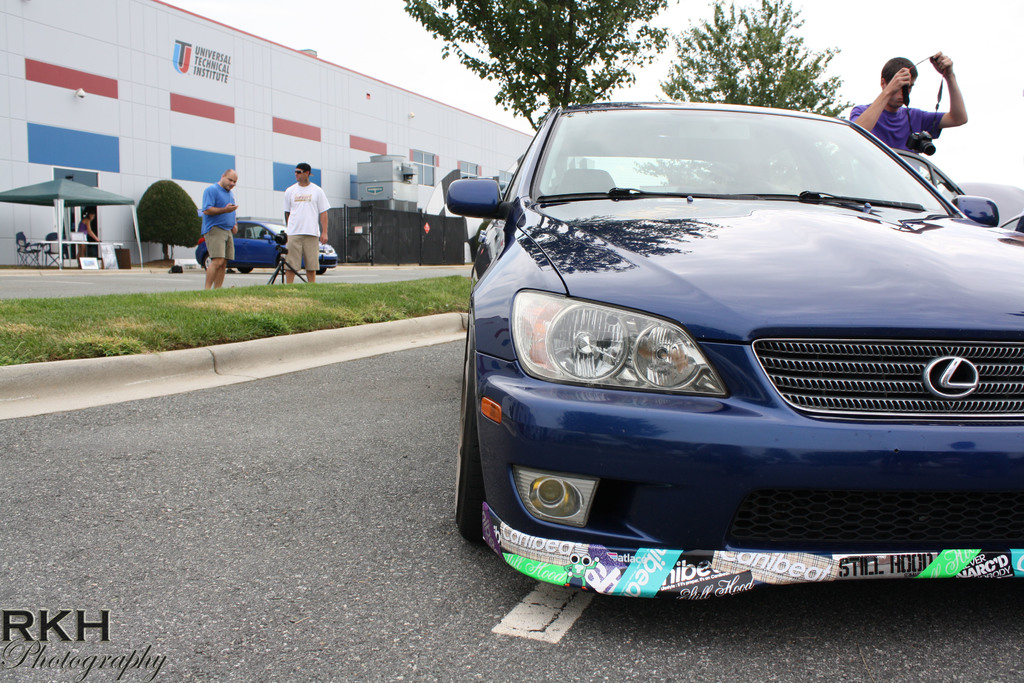Person: (850, 50, 968, 178), (283, 163, 331, 284), (198, 168, 240, 292), (76, 210, 103, 269)
